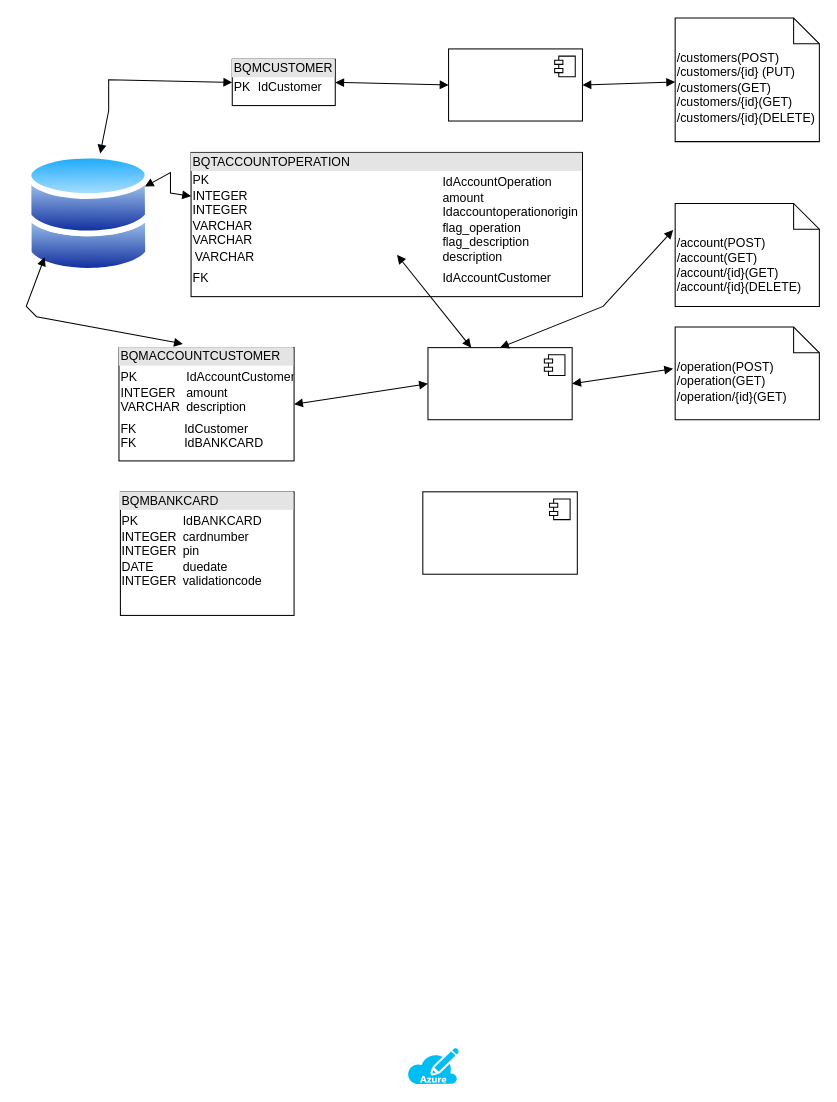
Image size: 837x1102. Some labels were removed from this diagram. Each missing label, with the box of its shape:
MS - BANK CARD: (422, 491, 577, 574)
MS - CUSTOMERS: (448, 48, 582, 121)
MS - OPERATION: (427, 347, 572, 420)
